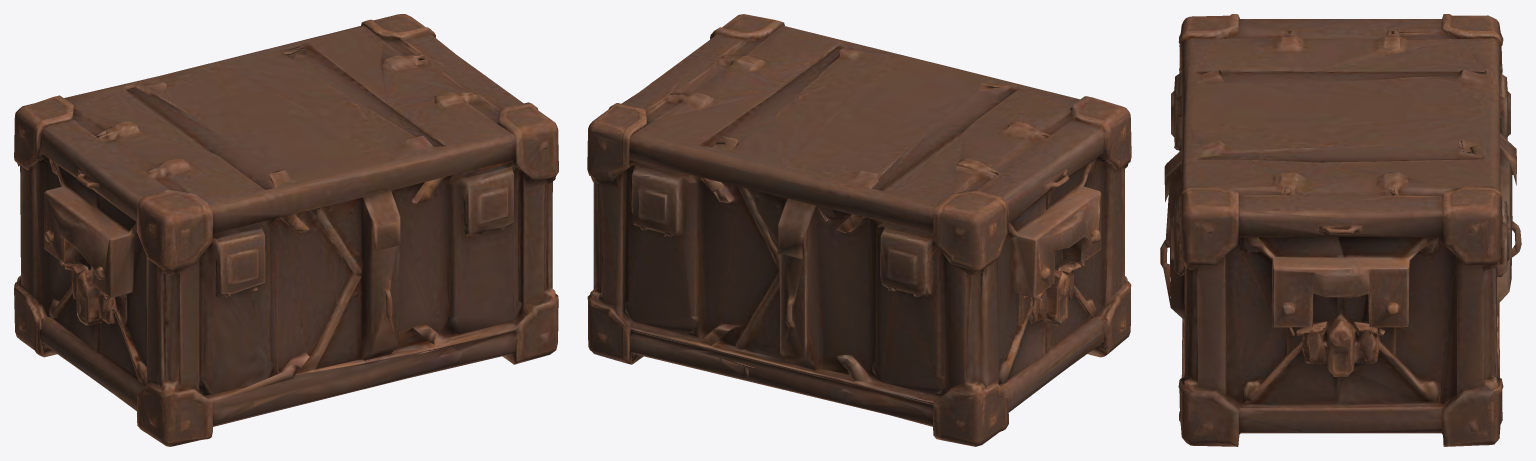
The model's file is crate.glb.
3 views of the same model, side by side, from view 1: azimuth 30°, elevation 25°; view 2: azimuth 150°, elevation 25°; view 3: azimuth 270°, elevation 25° (orthographic). The views are drawn at different scales.
Bounding box in the file's own units: 1.9 × 0.985 × 1.33.
1 material, 1 textured.
